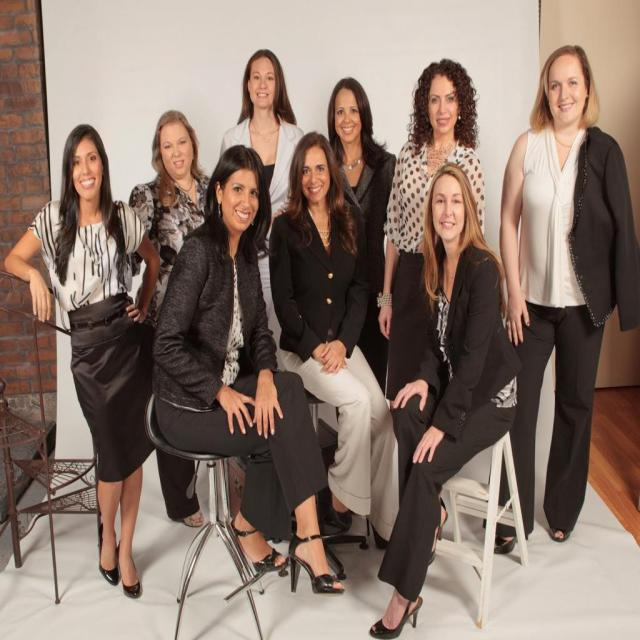Face: (543, 43, 593, 124), (217, 165, 268, 235), (423, 65, 469, 140), (433, 172, 471, 251), (68, 143, 111, 206), (157, 115, 196, 183), (300, 143, 340, 205), (247, 50, 284, 117), (334, 85, 370, 152)
